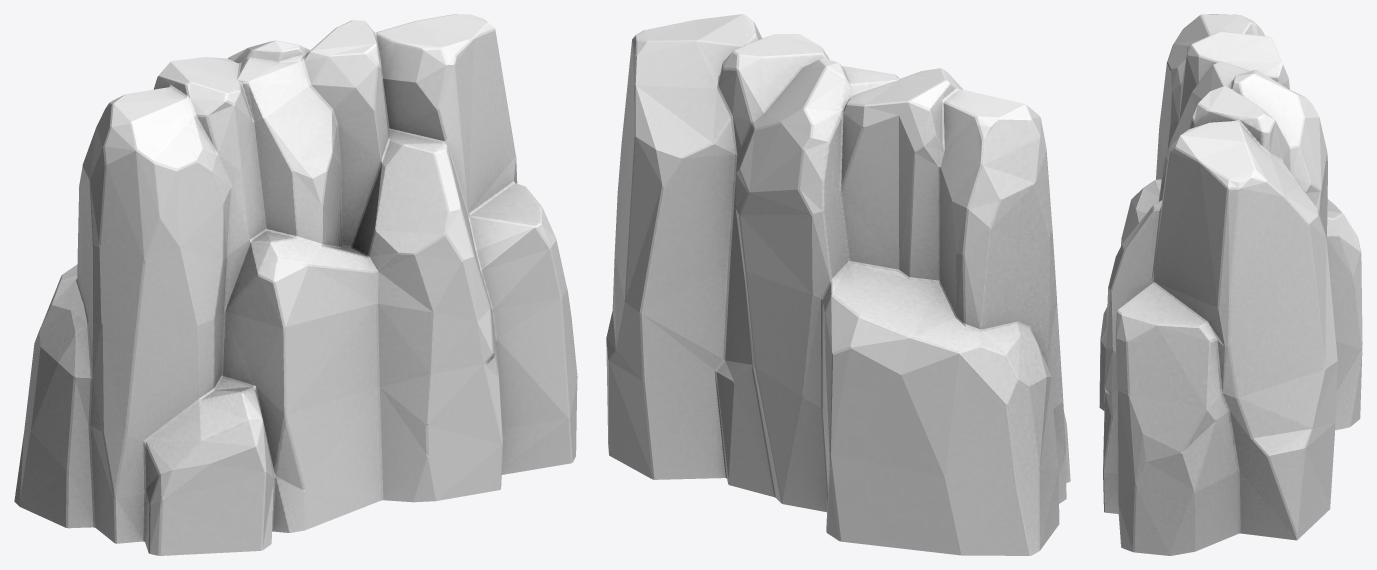
File: wall_02.fbx
3 views of the same model, side by side, from view 1: azimuth 30°, elevation 25°; view 2: azimuth 150°, elevation 25°; view 3: azimuth 270°, elevation 25° (orthographic). The views are drawn at different scales.
Parts seen in each view (by area): view 1: rock_combo_4.002; view 2: rock_combo_4.002; view 3: rock_combo_4.002.
Boxes of the visible parts, box(x1,y1,x2,y2) form: rock_combo_4.002: box(14, 14, 577, 555); rock_combo_4.002: box(606, 14, 1070, 555); rock_combo_4.002: box(1099, 14, 1362, 555).
Size of the model in its own units: 523 by 441 by 276.
1 material, 1 textured.
